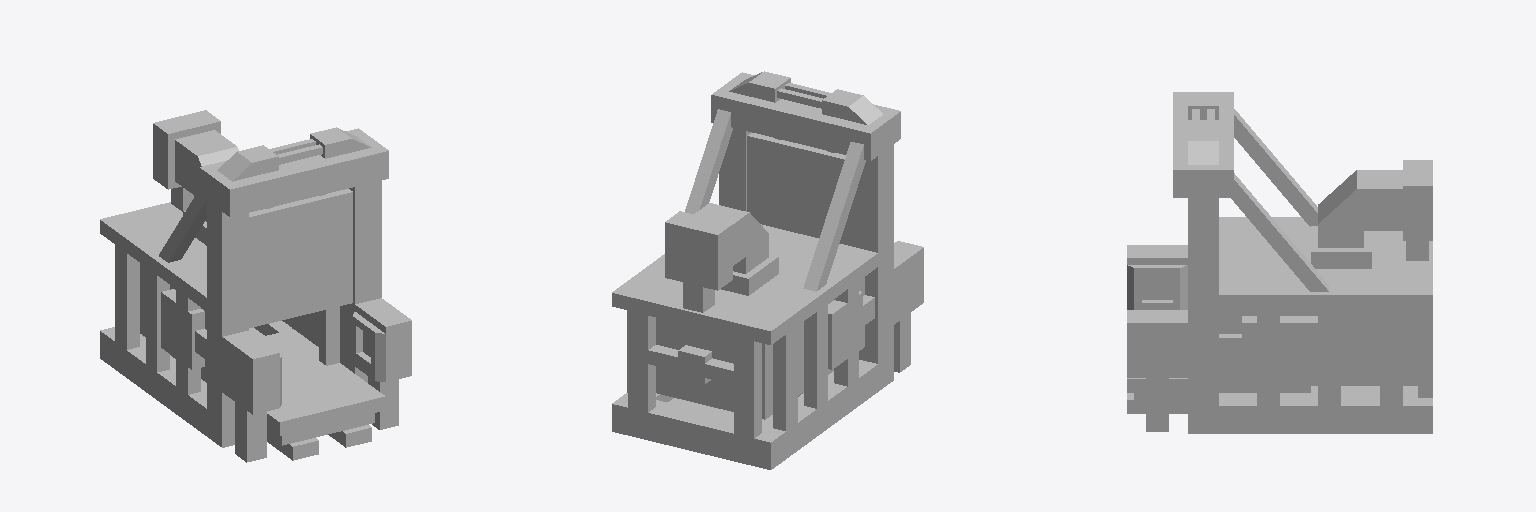
Rendered from car_kiln_item.obj.
3 views of the same model, side by side, from view 1: azimuth 30°, elevation 25°; view 2: azimuth 150°, elevation 25°; view 3: azimuth 270°, elevation 25° (orthographic).
Visible parts, largest first — view 1: inletBoard, basePostW, frameBeam, trolleyFloor2, roof, basePostE, armInletW, baseRidgeW, armInletE, gasInlet, rsIn, lesserPost1W (+16 smaller); view 2: roof, inletBoard, basePostW, frameBeam, baseRidgeN, wallN, gasInlet, baseRidgeW, supporterW, lesserPost2N, lesserPost1N, lesserPost1W (+16 smaller); view 3: roof, basePostE, baseRidgeE, gasPipe, wallE, rsOut, frameBeam, armInletE, supporterE, gasInlet, supporterW, lesserPost2E (+13 smaller).
Boxes of the visible parts, x1,y1,x2,y2 form: inletBoard: [249, 189, 352, 327]; basePostW: [207, 201, 248, 447]; frameBeam: [199, 128, 388, 216]; trolleyFloor2: [201, 329, 385, 435]; roof: [100, 202, 206, 310]; basePostE: [340, 180, 381, 382]; armInletW: [222, 331, 279, 414]; baseRidgeW: [115, 335, 206, 435]; armInletE: [355, 298, 411, 381]; gasInlet: [153, 110, 220, 189]; rsIn: [161, 289, 204, 369]; lesserPost1W: [115, 245, 139, 349]; roof: [612, 224, 877, 344]; inletBoard: [747, 133, 851, 245]; basePostW: [852, 145, 893, 391]; frameBeam: [711, 72, 900, 160]; baseRidgeN: [612, 393, 785, 469]; wallN: [656, 318, 772, 419]; gasInlet: [665, 211, 732, 290]; baseRidgeW: [762, 360, 877, 458]; supporterW: [803, 142, 865, 291]; lesserPost2N: [734, 337, 761, 438]; lesserPost1N: [628, 311, 655, 412]; lesserPost1W: [773, 326, 797, 430]; roof: [1219, 217, 1432, 308]; basePostE: [1188, 198, 1218, 433]; baseRidgeE: [1219, 393, 1402, 433]; gasPipe: [1318, 170, 1402, 247]; wallE: [1219, 309, 1379, 385]; rsOut: [1242, 316, 1317, 377]; frameBeam: [1173, 92, 1233, 197]; armInletE: [1127, 310, 1187, 377]; supporterE: [1231, 173, 1328, 291]; gasInlet: [1403, 160, 1432, 240]; supporterW: [1234, 109, 1317, 226]; lesserPost2E: [1318, 309, 1340, 405].
Size of the model in its own units: 3 by 5 by 5.